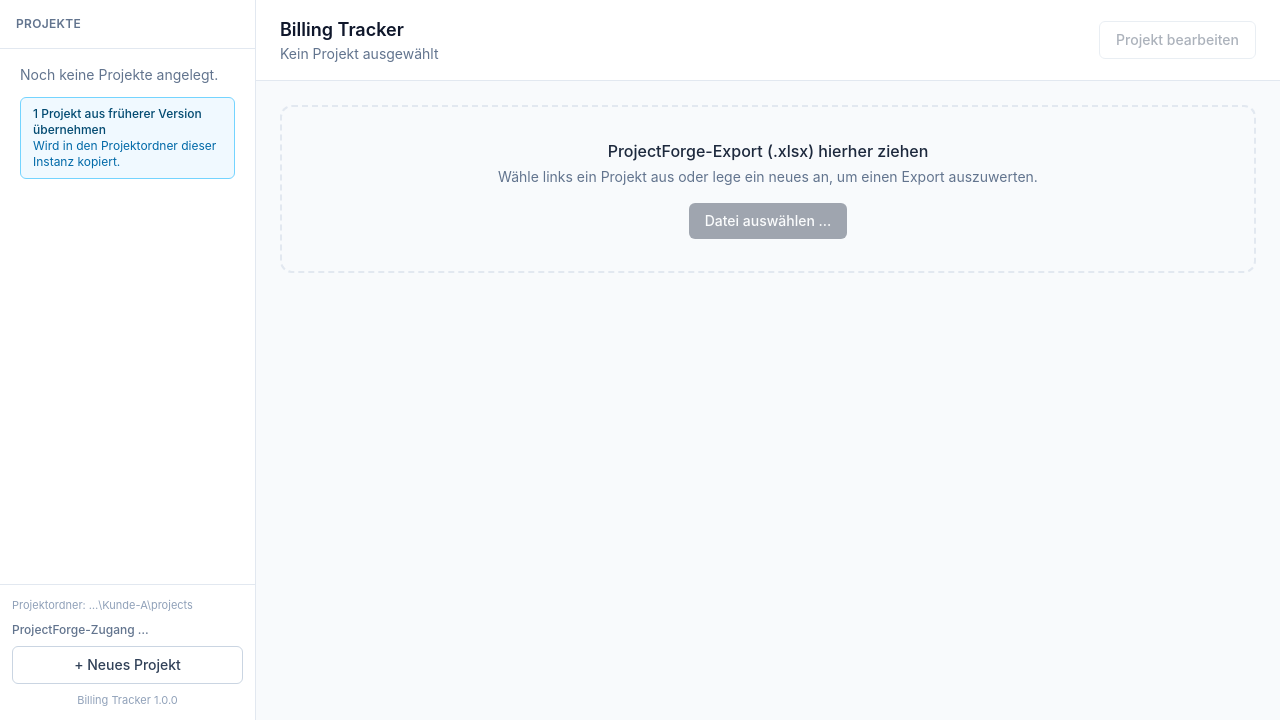
it: App (Integration mit nachgebildetem Backend) › übernimmt Projekte aus der früheren Version in den Projektordner
Check: the text "Projektordner: …\\Kunde-A\\projects" is shown, box [12,598,193,612]
Step 1. Click the button "1 Projekt aus früherer Version übernehmen" → click(128, 138), box [20,97,235,179]
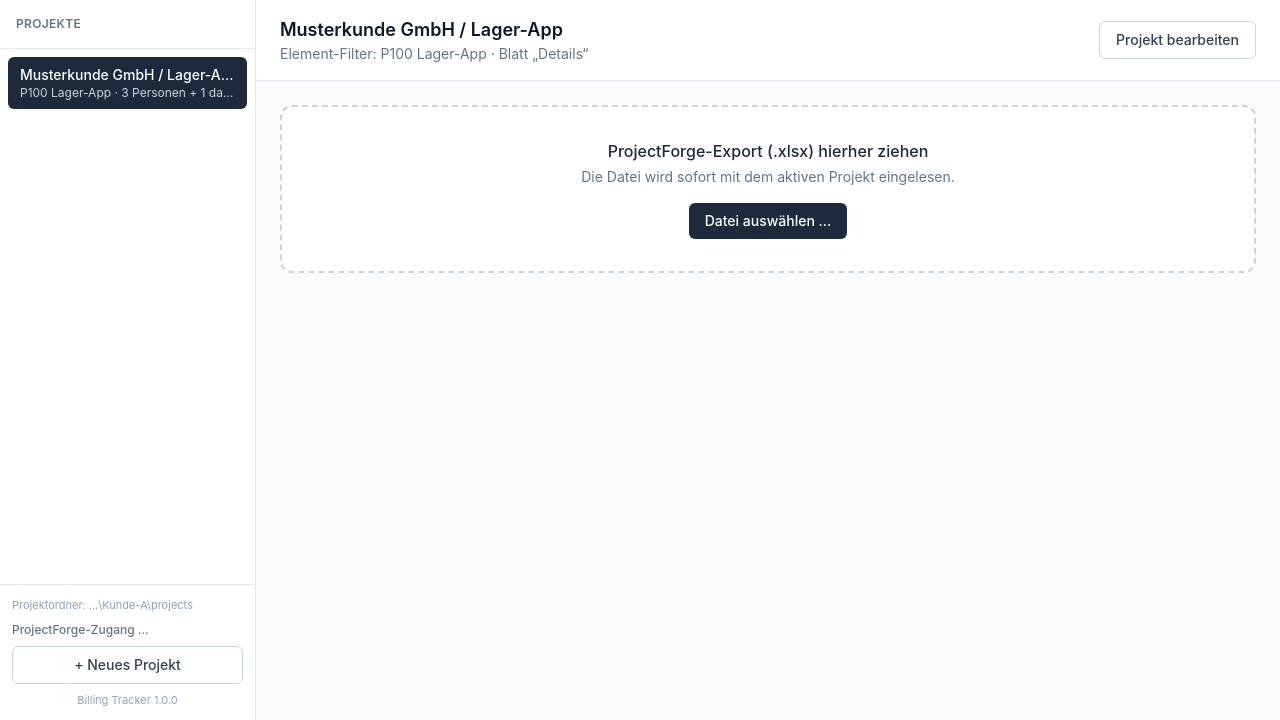
Check: the heading "Musterkunde GmbH / Lager-App" is shown, box [280,16,588,44]
Check: the button "aus früherer Version" is gone
